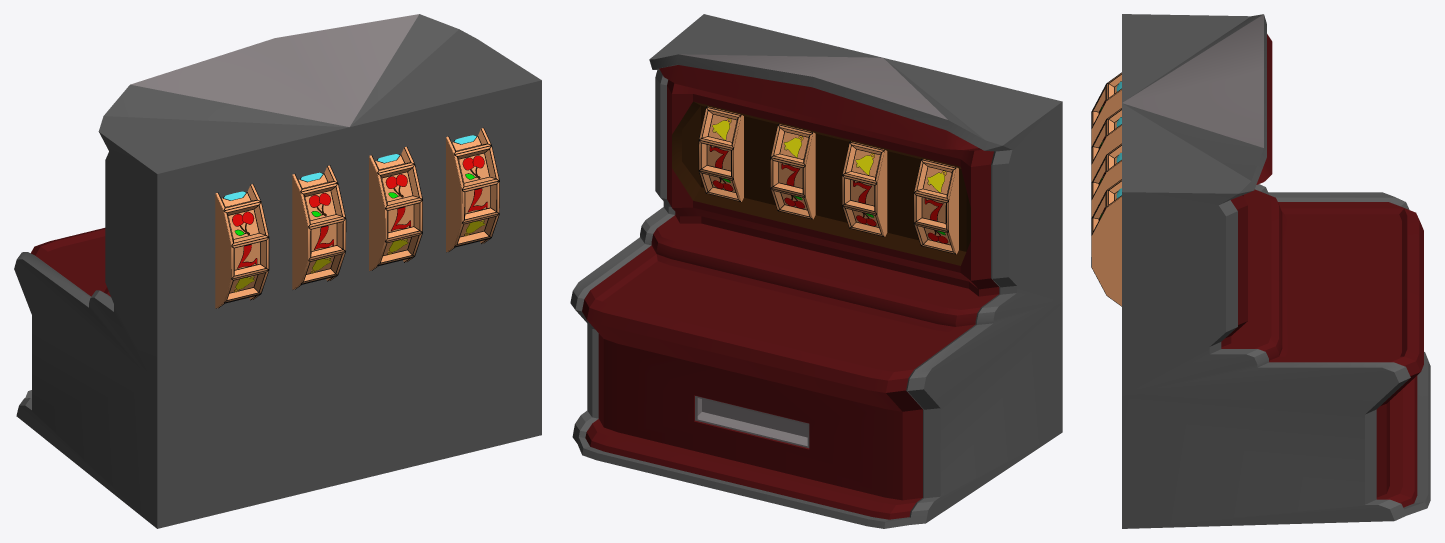
The model's file is Fighting.fbx.
3 renders of one model, left to right at view 1: azimuth 30°, elevation 25°; view 2: azimuth 150°, elevation 25°; view 3: azimuth 270°, elevation 25°, orthographic. The views are drawn at different scales.
Visible parts, largest first — view 1: Cube.003, Cylinder.003, Cylinder.001, Cylinder.008, Cylinder.009; view 2: Cube.003, Cylinder.001, Cylinder.008, Cylinder.003, Cylinder.009; view 3: Cube.003, Cylinder.009, Cylinder.008, Cylinder.003, Cylinder.001.
Part boxes in pixels (x1,y1,x2,y2): Cube.003: (14,14,541,528); Cylinder.003: (215,184,269,308); Cylinder.001: (292,165,346,289); Cylinder.008: (369,146,422,271); Cylinder.009: (446,127,499,252); Cube.003: (570,14,1062,528); Cylinder.001: (842,141,887,236); Cylinder.008: (770,124,815,219); Cylinder.003: (913,159,958,254); Cylinder.009: (698,106,743,201); Cube.003: (1122,14,1430,528); Cylinder.009: (1091,179,1121,306); Cylinder.008: (1091,143,1243,217); Cylinder.003: (1091,72,1121,146); Cylinder.001: (1091,108,1121,182).
Size of the model in its own units: 1502 by 1452 by 1208.
